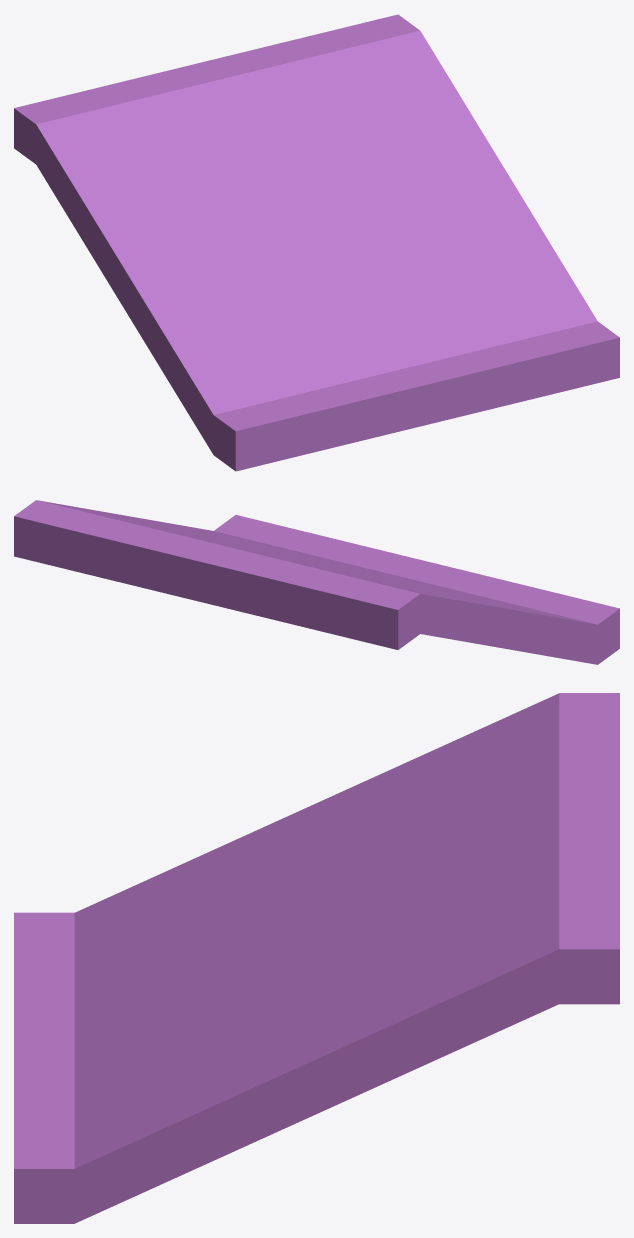
The model's file is Platform_Ramp.fbx.
The picture shows the model from 3 angles, top to bottom: view 1: azimuth 30°, elevation 25°; view 2: azimuth 150°, elevation 25°; view 3: azimuth 270°, elevation 25°; orthographic projection. The views are drawn at different scales.
Visible parts, largest first — view 1: PLatform_Ramp; view 2: PLatform_Ramp; view 3: PLatform_Ramp.
Part boxes in pixels (x1=…): PLatform_Ramp: x1=14, y1=14, x2=619, y2=471; PLatform_Ramp: x1=14, y1=500, x2=619, y2=664; PLatform_Ramp: x1=14, y1=693, x2=619, y2=1223.
Size of the model in its own units: 1000 by 500 by 1000.
